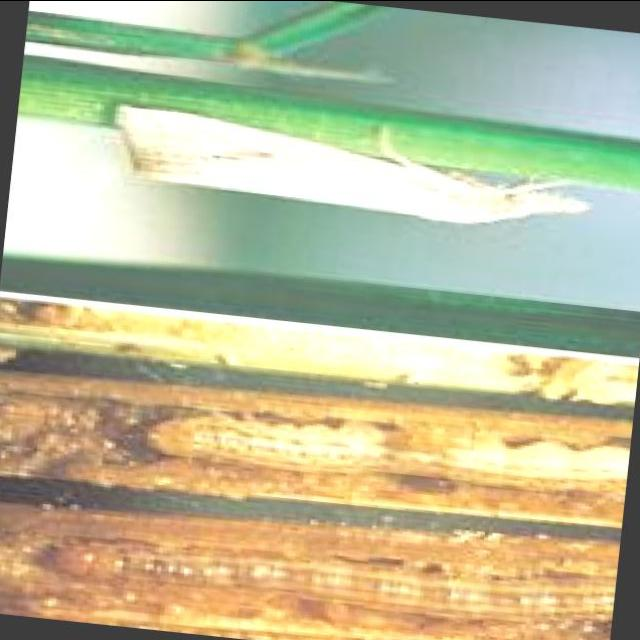stem borer: (0, 373, 630, 523), (0, 502, 619, 640), (0, 301, 636, 402), (122, 109, 587, 220)
